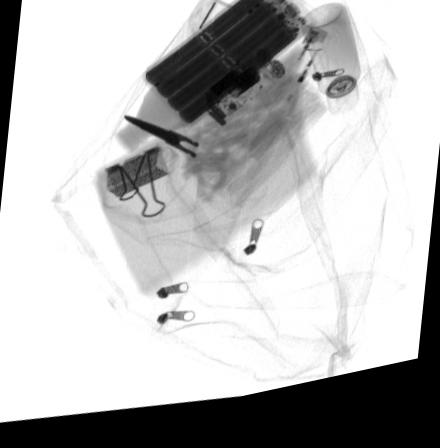Lighter: (284, 40, 329, 102)
Powerbank: (134, 0, 319, 138)
Scissors: (121, 120, 229, 199)
Sprayer: (297, 16, 362, 128)
